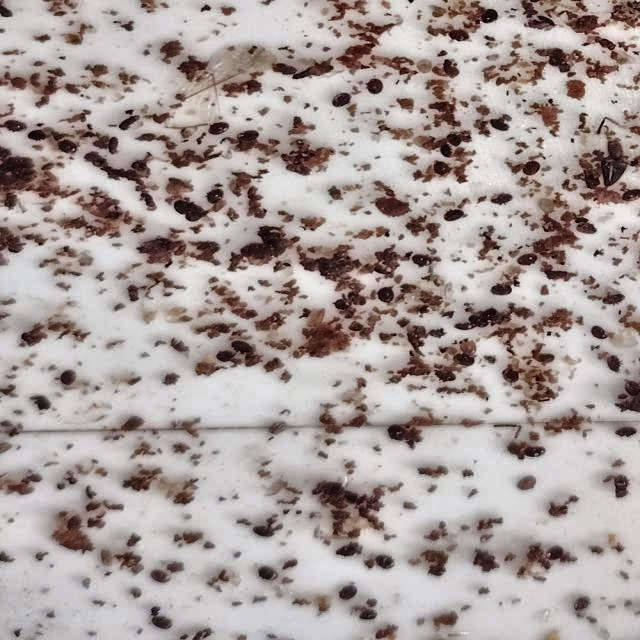varroa: (388, 424, 410, 444), (230, 340, 259, 355), (337, 544, 363, 559), (186, 209, 209, 225), (60, 369, 79, 388), (433, 369, 457, 384), (480, 9, 501, 26), (444, 209, 466, 225), (602, 293, 627, 307), (378, 288, 397, 306), (376, 555, 397, 571), (483, 309, 504, 325), (206, 189, 227, 205), (332, 93, 353, 109), (173, 201, 195, 216), (57, 140, 79, 155), (367, 79, 385, 97), (339, 585, 358, 602), (501, 369, 520, 386), (607, 355, 623, 375), (432, 162, 452, 178), (347, 293, 368, 308), (210, 122, 231, 137), (533, 353, 559, 365), (27, 130, 53, 142), (150, 570, 172, 584), (255, 526, 277, 540), (490, 120, 512, 134), (546, 546, 565, 562), (151, 618, 174, 631), (491, 285, 514, 298), (491, 193, 514, 206), (455, 354, 476, 368), (413, 254, 434, 268), (574, 597, 592, 613), (260, 567, 279, 582), (471, 315, 490, 330), (591, 327, 611, 341), (215, 351, 238, 363), (6, 120, 29, 132), (446, 133, 463, 149), (524, 162, 542, 177), (237, 131, 259, 143), (518, 254, 538, 267), (336, 299, 354, 313), (452, 31, 471, 44), (526, 446, 545, 458), (440, 145, 455, 160), (361, 609, 379, 621)
